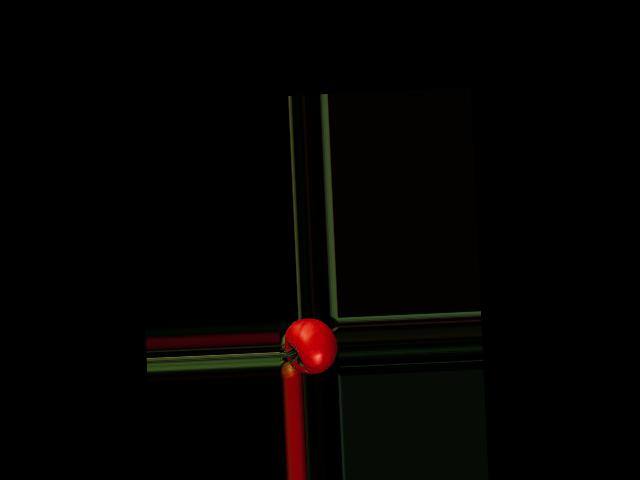tomato: (283, 316, 338, 374)
